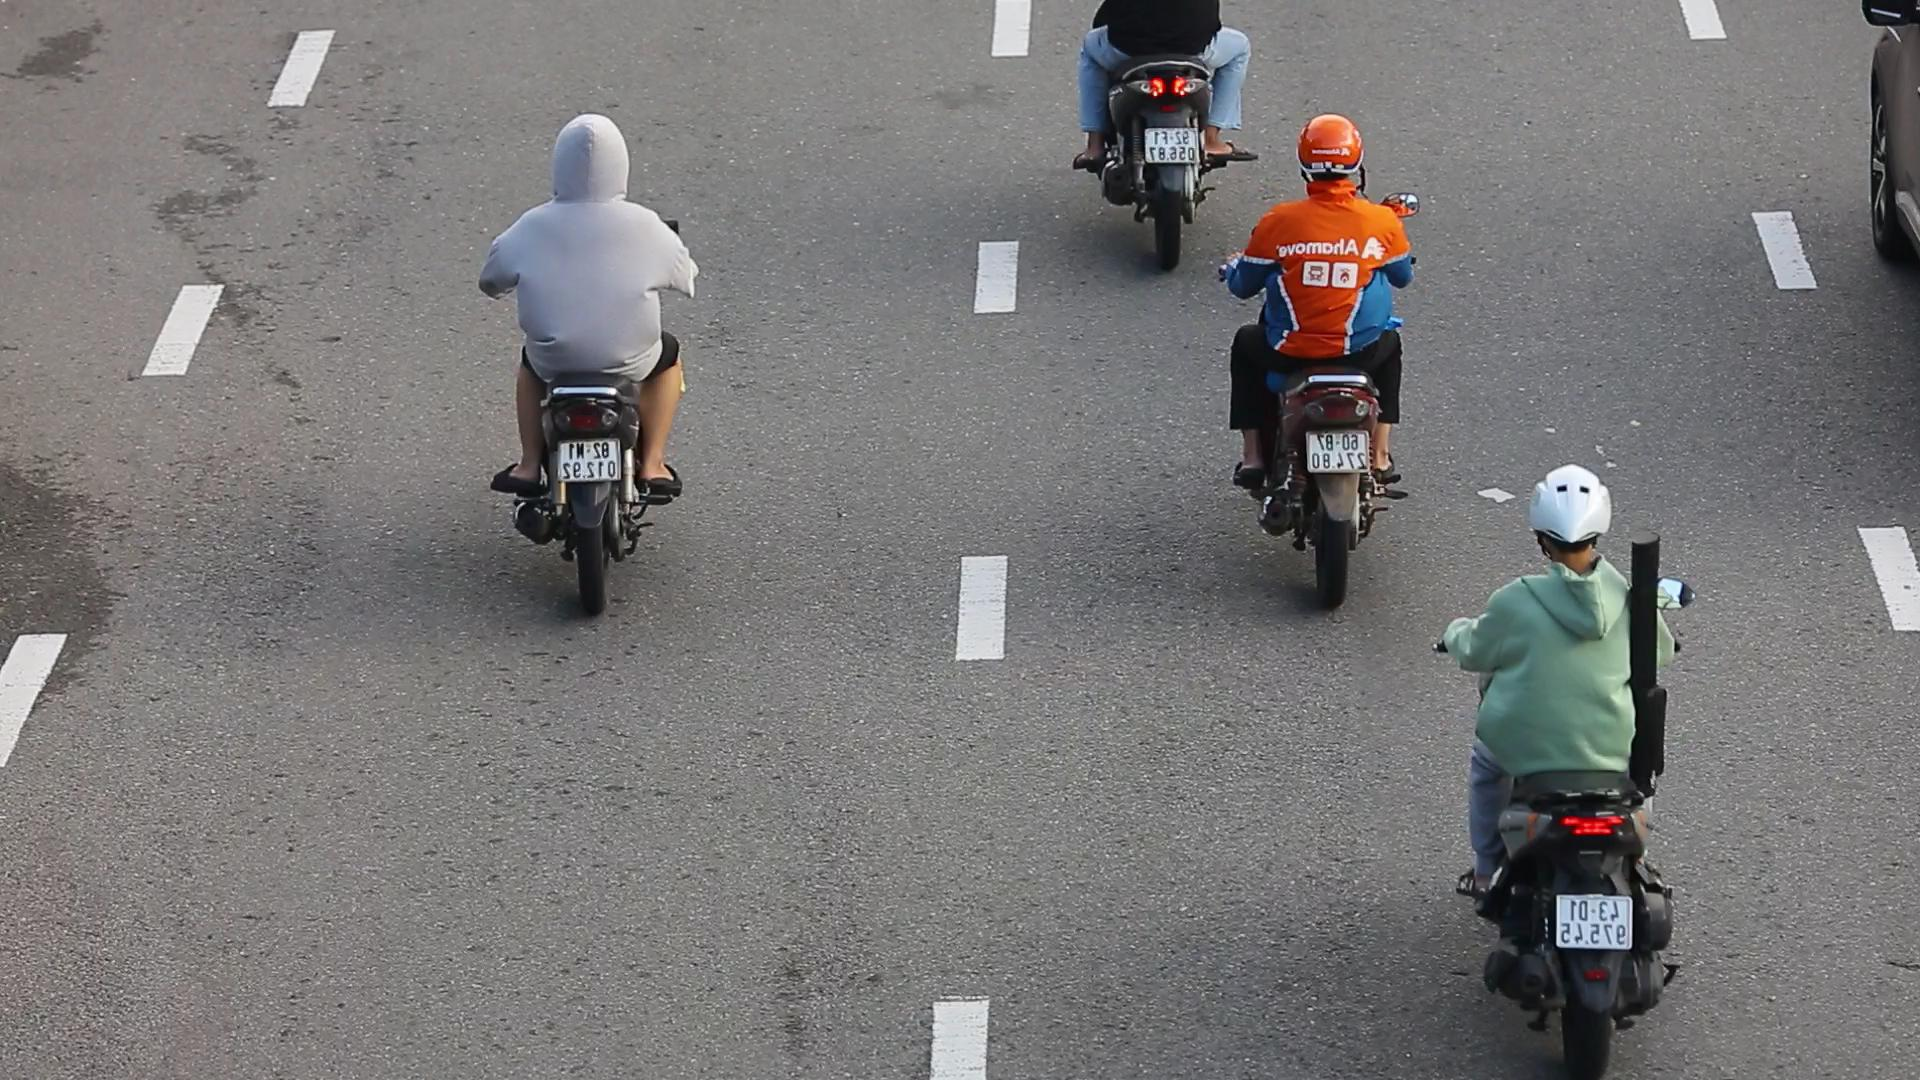motobike: (1447, 456, 1688, 1065), (475, 104, 709, 633), (1216, 102, 1427, 626)
